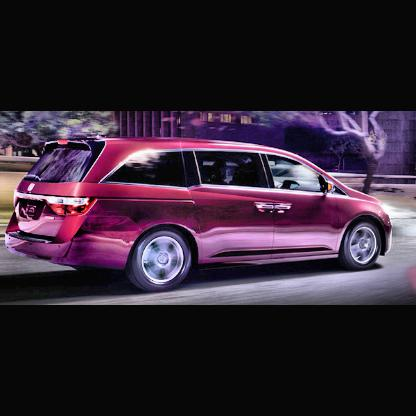Honda Odyssey Minivan 2012: (9, 132, 402, 296)
